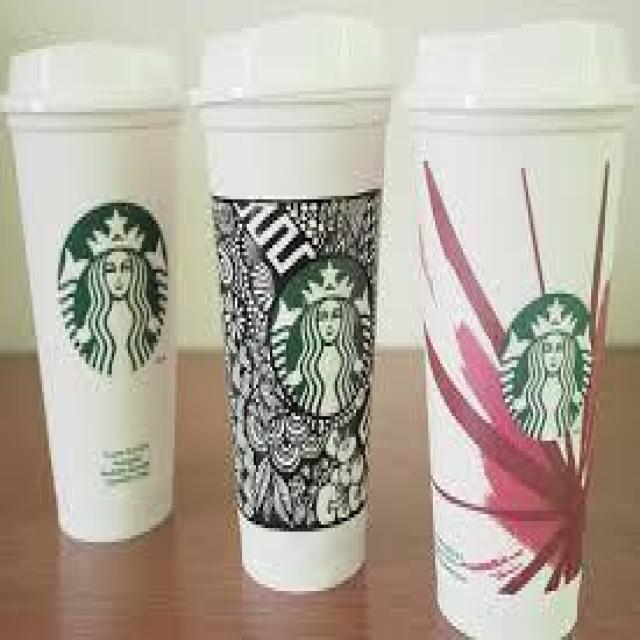bottle: (400, 24, 640, 640), (192, 18, 397, 598), (0, 35, 193, 553)
